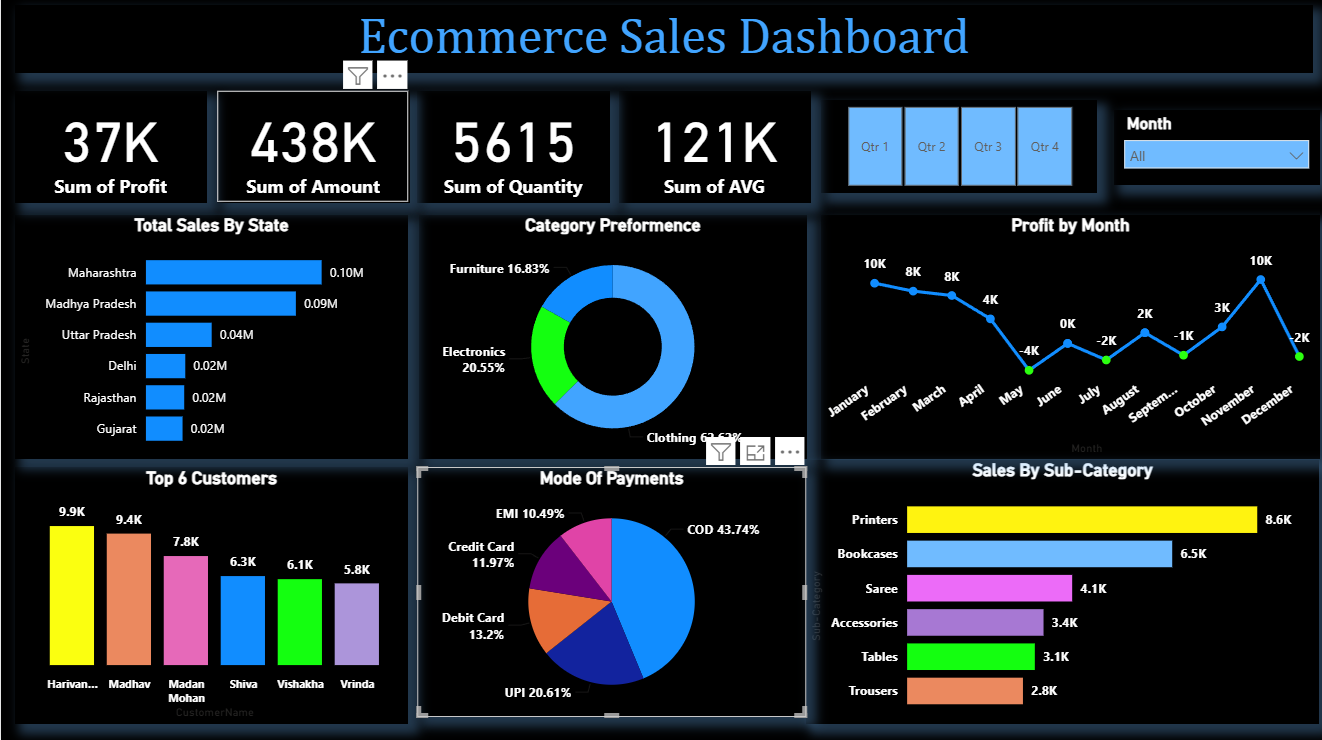

The dashboard page shown, as its layout file describes it:
{"tool":"powerbi","page":{"name":"Page 1","canvas":[1280,720],"ordinal":0},"visuals":[{"type":"textbox","box":[13.6,7.3,1252.7,66.4],"z":0},{"type":"card","fields":{"Values":["Sum(Details.Profit)"]},"box":[13.6,90,185.5,108.2],"z":1000},{"type":"card","fields":{"Values":["Sum(Details.Amount)"]},"box":[208.2,90,185.5,108.2],"z":2000},{"type":"card","fields":{"Values":["Sum(Details.Quantity)"]},"box":[401.8,90,185.5,108.2],"z":3000},{"type":"card","fields":{"Values":["Sum(Details.AVG)"]},"box":[596.4,90,185.5,108.2],"z":4000},{"type":"clusteredBarChart","title":"Total Sales By State","fields":{"Y":["Sum(Details.Amount)"],"Category":["Orders.State"]},"box":[13.6,210,380,236.4],"z":5000},{"type":"donutChart","title":"Category Preformence","fields":{"Y":["Sum(Details.Quantity)"],"Category":["Details.Category"]},"box":[402.7,210,375.5,236.4],"z":6000},{"type":"clusteredBarChart","title":"Sales By Sub-Category","fields":{"Category":["Details.Sub-Category"],"Y":["Sum(Details.Profit)"]},"box":[777.3,446.4,495.5,255.5],"z":7000},{"type":"columnChart","title":"Top 6 Customers","fields":{"Y":["Sum(Details.Amount)"],"Category":["Orders.CustomerName"]},"box":[13.6,453.6,380,248.2],"z":8000},{"type":"pieChart","title":"Mode Of Payments","fields":{"Y":["Sum(Details.Quantity)"],"Category":["Details.PaymentMode"]},"box":[401.8,453.6,375.5,240.9],"z":9000},{"type":"lineChart","title":"Profit by Month","fields":{"Category":["Orders.Order Date.Variation.Date Hierarchy.Month"],"Y":["Sum(Details.Profit)"]},"box":[790.9,210,481.8,236.4],"z":10000},{"type":"slicer","fields":{"Values":["Orders.Order Date.Variation.Date Hierarchy.Quarter"]},"box":[790.9,99.1,266.4,90],"z":10001},{"type":"slicer","fields":{"Values":["Orders.Order Date.Variation.Date Hierarchy.Month"]},"box":[1073.6,108.2,199.1,72.7],"z":10002}]}

Visuals, with their boxes in screenshot pixels (x1, y1, x2, y2), scaled from the page's 1280x720 canvas onto the 1322x740 screenshot:
textbox: <region>14, 8, 1308, 76</region>
card - Sum(Details.Profit): <region>14, 92, 206, 204</region>
card - Sum(Details.Amount): <region>215, 92, 407, 204</region>
card - Sum(Details.Quantity): <region>415, 92, 607, 204</region>
card - Sum(Details.AVG): <region>616, 92, 808, 204</region>
"Total Sales By State" clusteredBarChart: <region>14, 216, 407, 459</region>
"Category Preformence" donutChart: <region>416, 216, 804, 459</region>
"Sales By Sub-Category" clusteredBarChart: <region>803, 459, 1315, 721</region>
"Top 6 Customers" columnChart: <region>14, 466, 407, 721</region>
"Mode Of Payments" pieChart: <region>415, 466, 803, 714</region>
"Profit by Month" lineChart: <region>817, 216, 1314, 459</region>
slicer - Orders.Order Date.Variation.Date Hierarchy.Quarter: <region>817, 102, 1092, 194</region>
slicer - Orders.Order Date.Variation.Date Hierarchy.Month: <region>1109, 111, 1314, 186</region>
